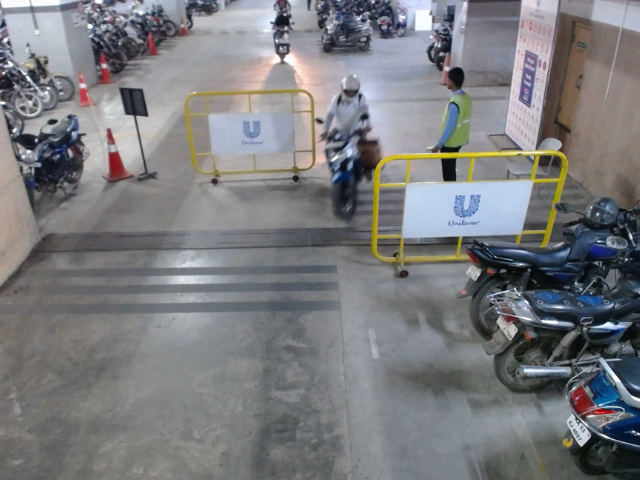with_helmet: (341, 76, 360, 99)
